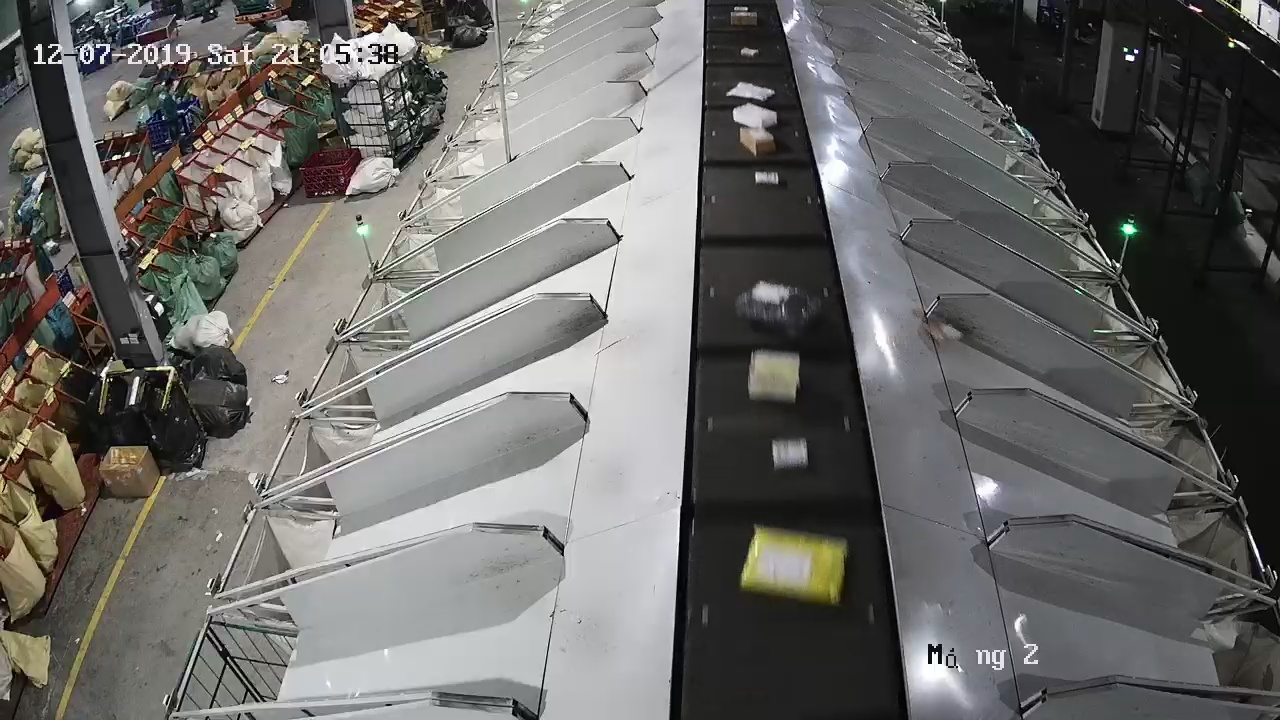parcel: (923, 317, 964, 342)
